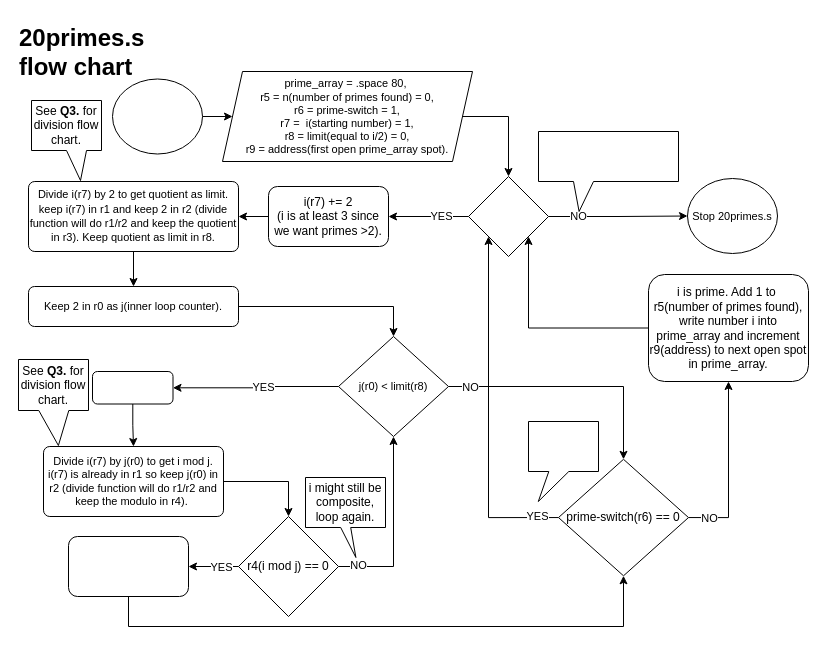
Some shapes in this 826 by 652 pixel diagram are drawn without their labels. Each missing label, with the centre of its shape:
Add 1 to j(r0).: the point at 132,387
i is not prime, loop again.: the point at 563,461
i is not prime, set prime-switch(r6) to 0 and exit loop.: the point at 128,566
n(r5) < 20: the point at 508,216
prime_array should contain 1st 20 primes >2.: the point at 608,171
Start 20primes.s: the point at 157,116
